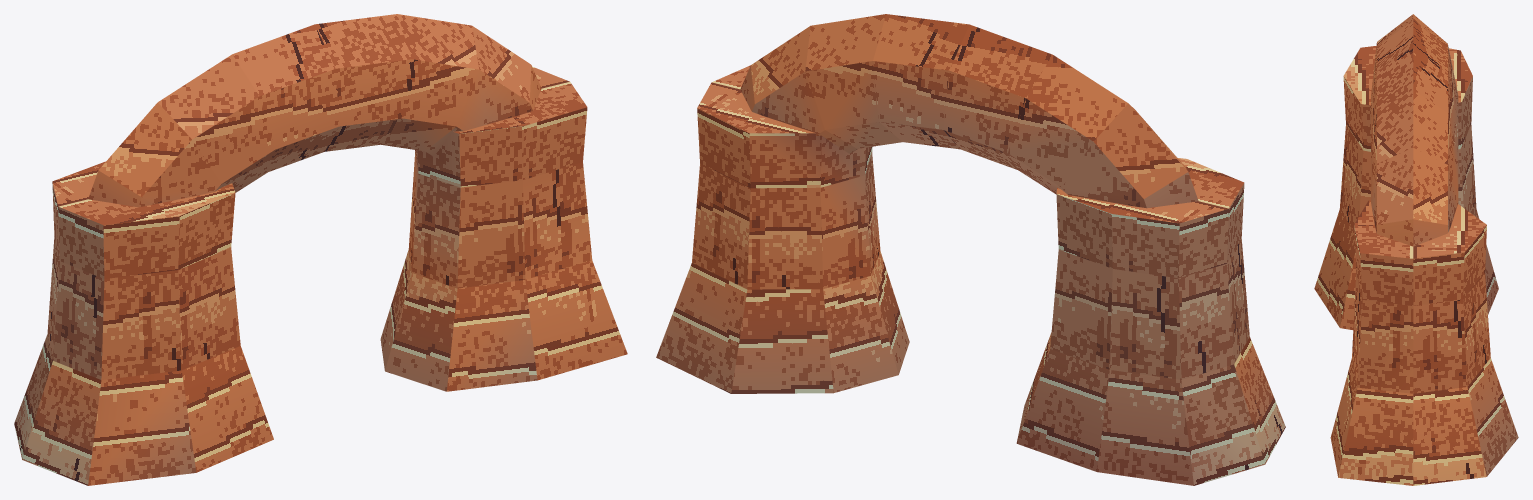
File: wland.arch__small.glb
3 views of the same model, side by side, from view 1: azimuth 30°, elevation 25°; view 2: azimuth 150°, elevation 25°; view 3: azimuth 270°, elevation 25° (orthographic). The views are drawn at different scales.
Visible parts, largest first — view 1: kit_legs, kit_span; view 2: kit_legs, kit_span; view 3: kit_legs, kit_span.
Part boxes in pixels (bbox=[...]): kit_legs: bbox=[14, 66, 627, 485]; kit_span: bbox=[88, 14, 541, 207]; kit_legs: bbox=[656, 65, 1285, 485]; kit_span: bbox=[740, 14, 1198, 208]; kit_legs: bbox=[1314, 46, 1518, 485]; kit_span: bbox=[1371, 14, 1458, 246].
Size of the model in its own units: 9.96 by 5.96 by 3.48.
Materials: 3 (3 with a texture image).
